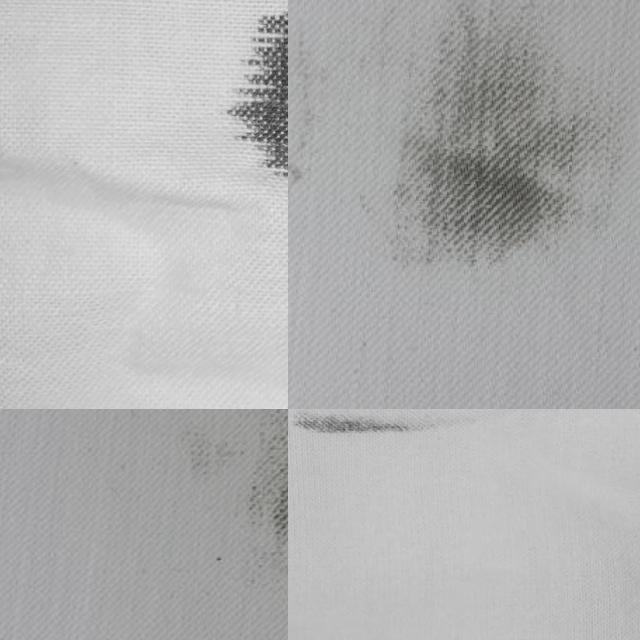Thread_other: (360, 0, 640, 299), (126, 409, 288, 640), (288, 409, 631, 478)
